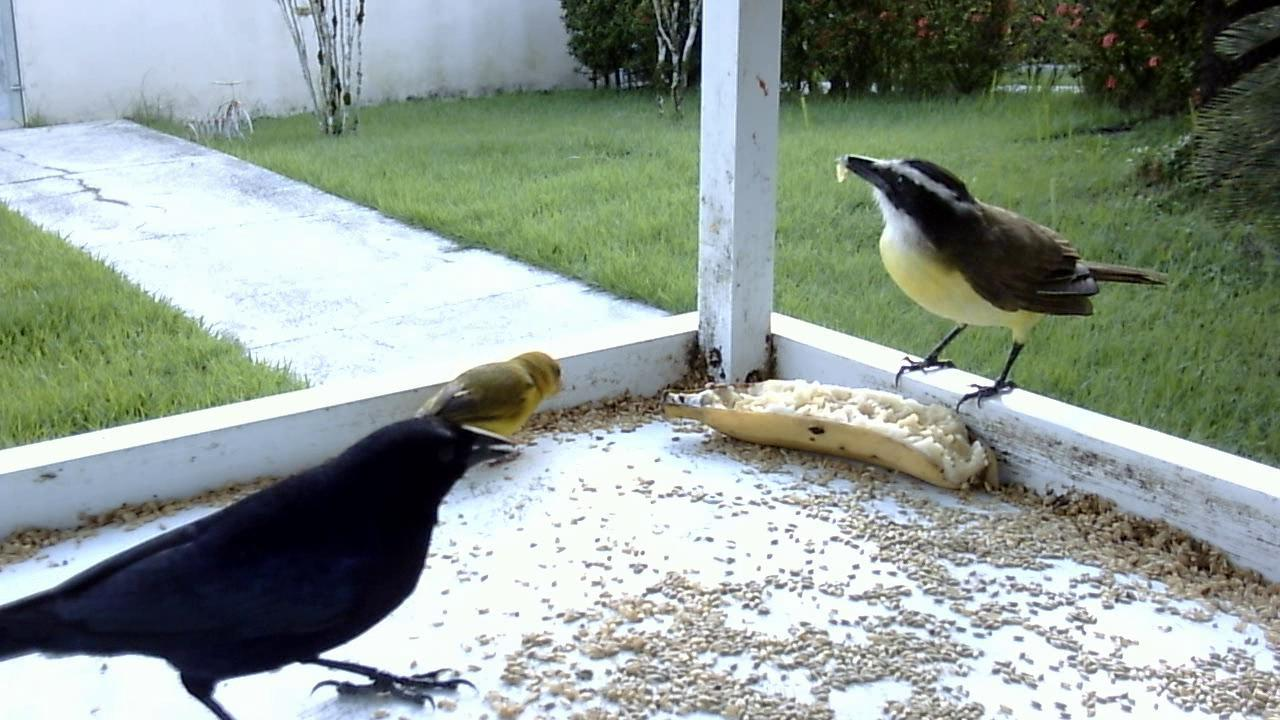bem_te_vi: (822, 144, 1169, 423)
canario_do_amazonas: (422, 341, 572, 483)
chupim: (7, 381, 540, 720)
